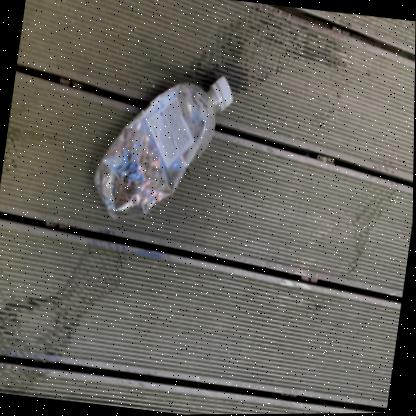Plastic: (93, 76, 230, 218)
